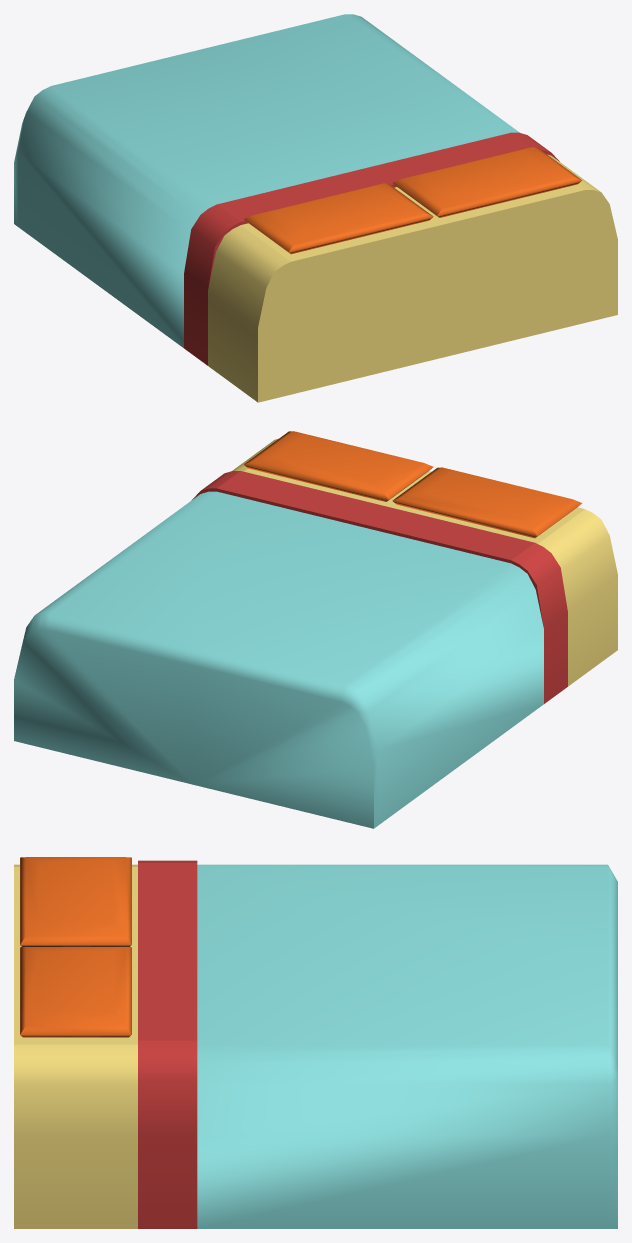
The model's file is bed.fbx.
The picture shows the model from 3 angles, top to bottom: view 1: azimuth 30°, elevation 25°; view 2: azimuth 150°, elevation 25°; view 3: azimuth 270°, elevation 25°; orthographic projection. The views are drawn at different scales.
Parts seen in each view (by area): view 1: Blanket Top, Sheets, Pillows, Blanket Bottom; view 2: Blanket Top, Pillows, Blanket Bottom, Sheets; view 3: Blanket Top, Sheets, Blanket Bottom, Pillows.
Boxes of the visible parts, x1,y1,x2,y2 form: Blanket Top: (14, 14, 519, 347); Sheets: (208, 154, 617, 402); Pillows: (244, 147, 581, 254); Blanket Bottom: (184, 132, 559, 365); Blanket Top: (14, 491, 543, 828); Pillows: (244, 431, 581, 538); Blanket Bottom: (191, 471, 567, 703); Sheets: (232, 438, 617, 686); Blanket Top: (197, 864, 617, 1228); Sheets: (14, 864, 137, 1228); Blanket Bottom: (138, 860, 197, 1228); Pillows: (20, 857, 131, 1037).
Bounding box in the file's own units: 300 × 118 × 353.
